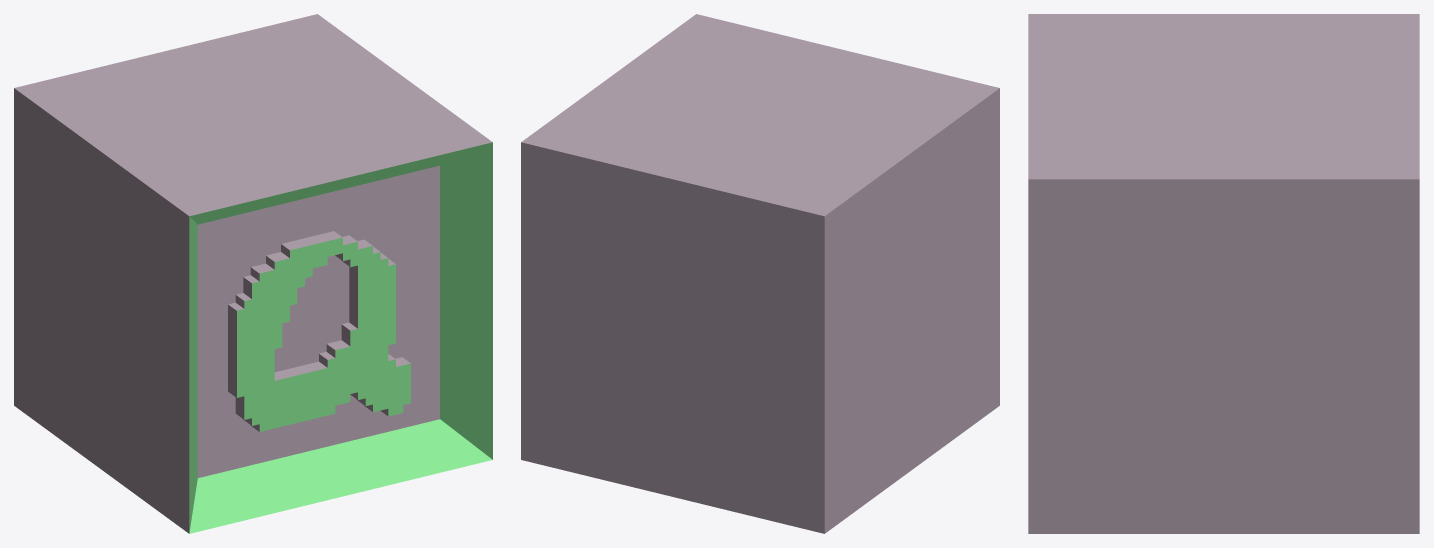
The model's file is BlockQ.fbx.
3 renders of one model, left to right at view 1: azimuth 30°, elevation 25°; view 2: azimuth 150°, elevation 25°; view 3: azimuth 270°, elevation 25°, orthographic. The views are drawn at different scales.
Parts seen in each view (by area): view 1: Cube; view 2: Cube; view 3: Cube.
Boxes of the visible parts, bbox=[...] form: Cube: bbox=[14, 14, 492, 533]; Cube: bbox=[521, 14, 999, 533]; Cube: bbox=[1028, 14, 1419, 533].
Size of the model in its own units: 2000 by 2000 by 2000.
